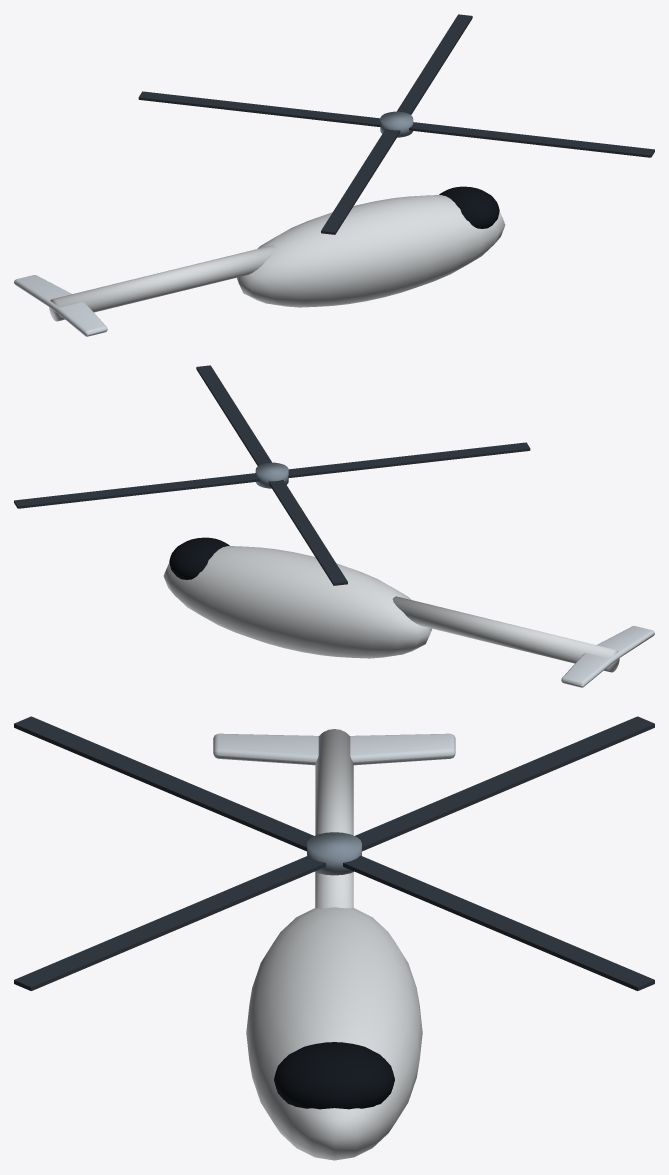
The model's file is heli_civ.glb.
3 renders of one model, top to bottom at view 1: azimuth 30°, elevation 25°; view 2: azimuth 150°, elevation 25°; view 3: azimuth 270°, elevation 25°, orthographic. The views are drawn at different scales.
Visible parts, largest first — view 1: fus, boom, blade0, blade2, stab, blade3, blade1, glass, hub; view 2: fus, boom, blade1, blade3, stab, blade2, blade0, glass, hub; view 3: fus, glass, stab, blade0, blade1, blade2, blade3, boom, hub.
Part boxes in pixels (x1,y1,x2,y2): fus: [237, 195, 505, 307]; boom: [49, 245, 276, 321]; blade0: [409, 122, 654, 157]; blade2: [138, 91, 380, 127]; stab: [14, 275, 107, 336]; blade3: [321, 129, 400, 234]; blade1: [397, 14, 472, 114]; glass: [439, 186, 499, 228]; hub: [380, 111, 413, 137]; fus: [163, 546, 431, 658]; boom: [392, 596, 619, 672]; blade1: [14, 473, 259, 508]; blade3: [288, 442, 530, 478]; stab: [561, 626, 654, 687]; blade2: [268, 480, 347, 585]; blade0: [196, 365, 271, 465]; glass: [169, 537, 229, 579]; hub: [255, 462, 288, 488]; fus: [246, 907, 422, 1160]; glass: [274, 1042, 394, 1109]; stab: [213, 733, 455, 765]; blade0: [14, 855, 325, 990]; blade1: [343, 855, 654, 990]; blade2: [355, 716, 654, 851]; blade3: [14, 716, 313, 851]; boom: [315, 729, 353, 908]; hub: [307, 832, 361, 875].
Bounding box in the file's own units: 17.91 × 5.6 × 11.62.
